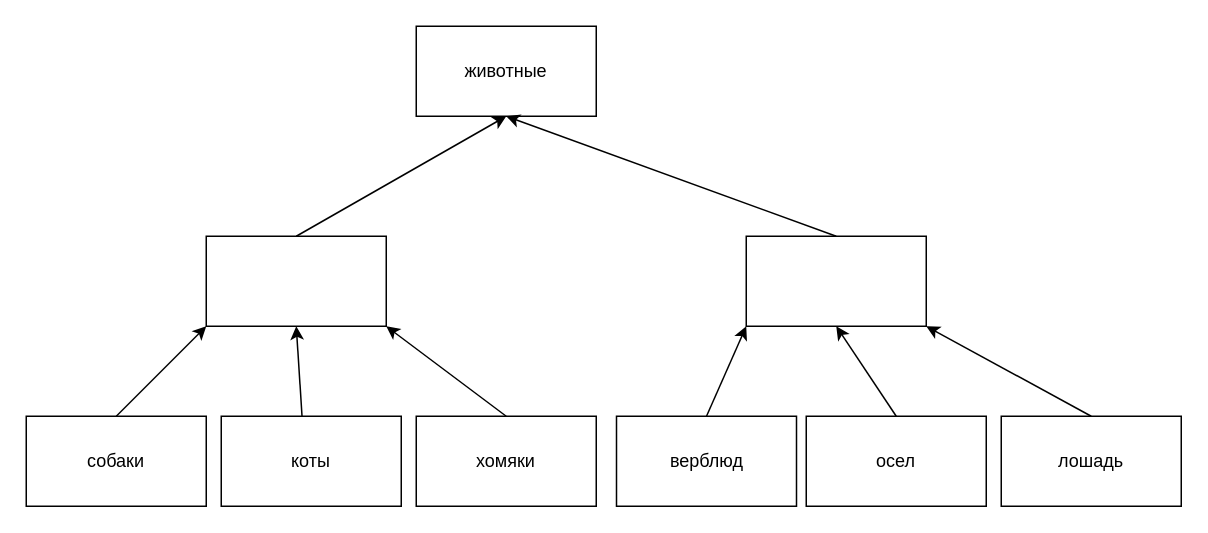
This 1208x533 diagram has some shape labels left out. The centre of each missing label's shape, as x and y in pixels:
грузовые животные: (x=835, y=280)
домашние животные: (x=295, y=280)
